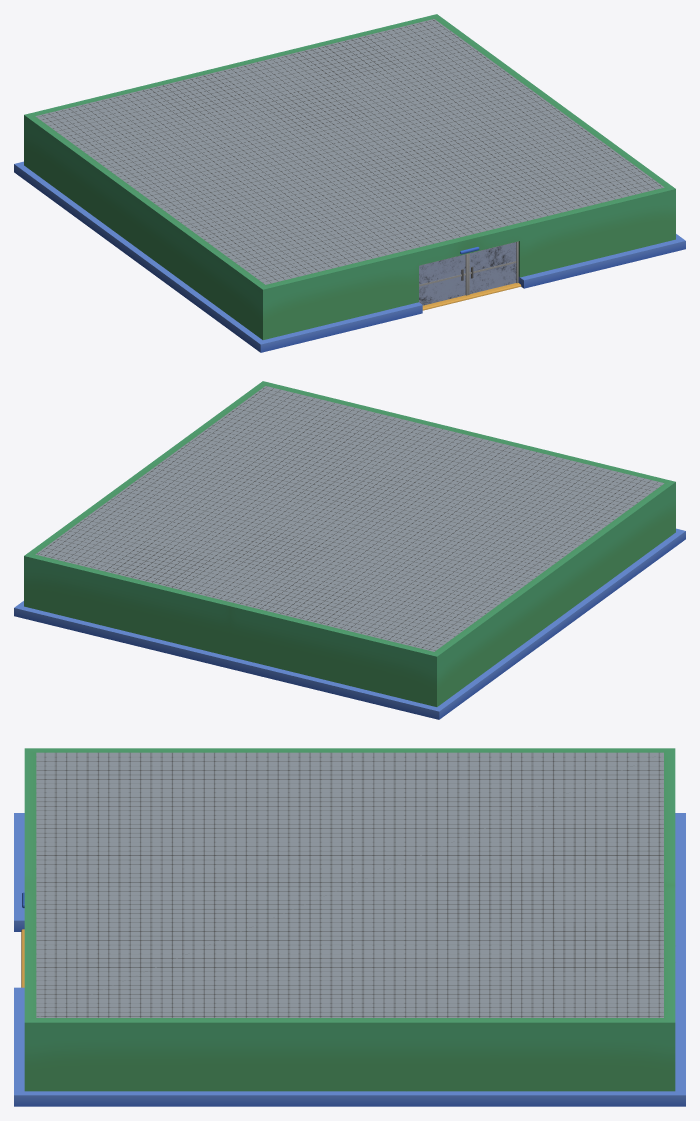
The model's file is Market_Building.fbx.
3 views of the same model, one above another, from view 1: azimuth 30°, elevation 25°; view 2: azimuth 150°, elevation 25°; view 3: azimuth 270°, elevation 25° (orthographic). The views are drawn at different scales.
Visible parts, largest first — view 1: Market, Door_right, Door_left; view 2: Market; view 3: Market.
Boxes of the visible parts, x1,y1,x2,y2 form: Market: (14,14,685,352); Door_right: (468,241,518,294); Door_left: (419,253,467,305); Market: (14,381,685,719); Market: (14,748,685,1106).
Size of the model in its own units: 2260 by 299 by 2272.
